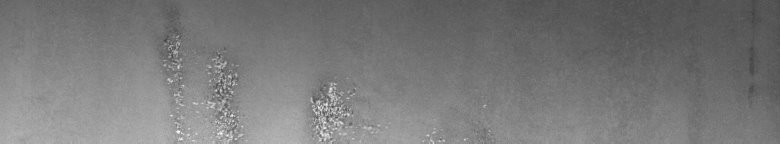hc: (160, 20, 245, 136)
